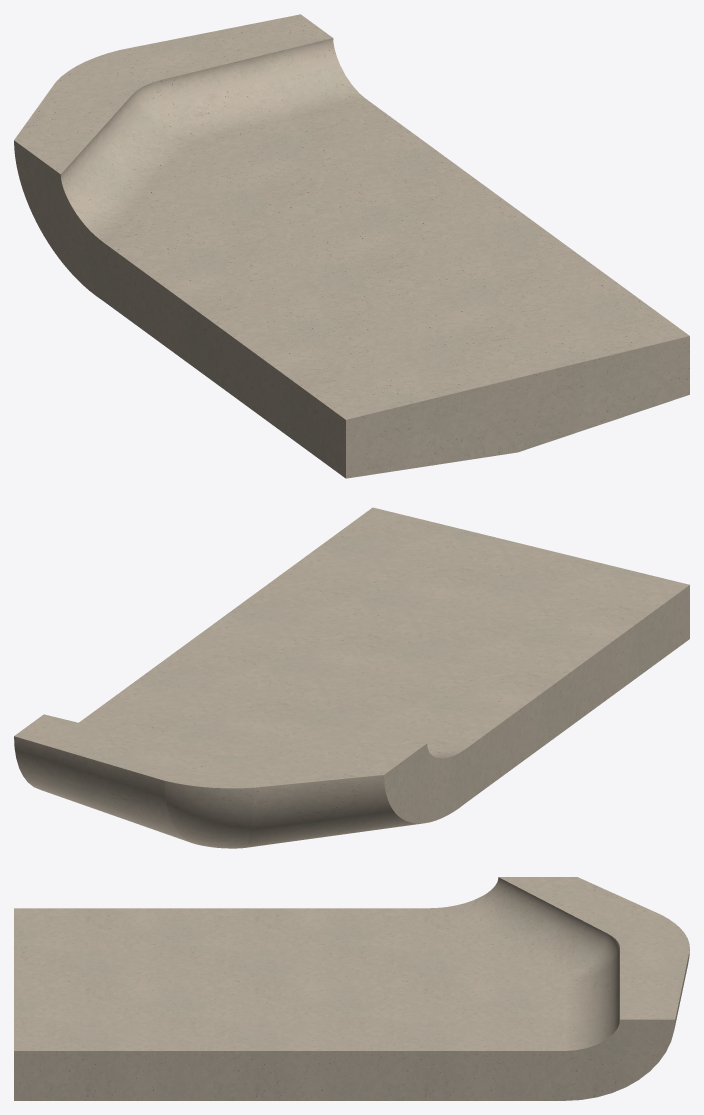
3 renders of one model, top to bottom at view 1: azimuth 30°, elevation 25°; view 2: azimuth 150°, elevation 25°; view 3: azimuth 270°, elevation 25°, orthographic. The views are drawn at different scales.
Visible parts, largest first — view 1: F5.SLDPRT; view 2: F5.SLDPRT; view 3: F5.SLDPRT.
Boxes of the visible parts, x1,y1,x2,y2 form: F5.SLDPRT: (14,14,689,478); F5.SLDPRT: (14,507,689,848); F5.SLDPRT: (14,877,689,1100).
Bounding box in the file's own units: 0.245 × 0.0757 × 0.4907.
Materials: 1 (1 with a texture image).
